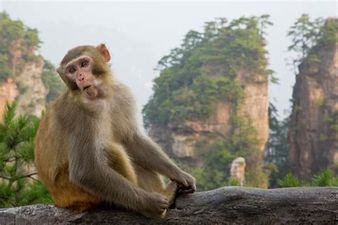monkey: (17, 29, 209, 225)
